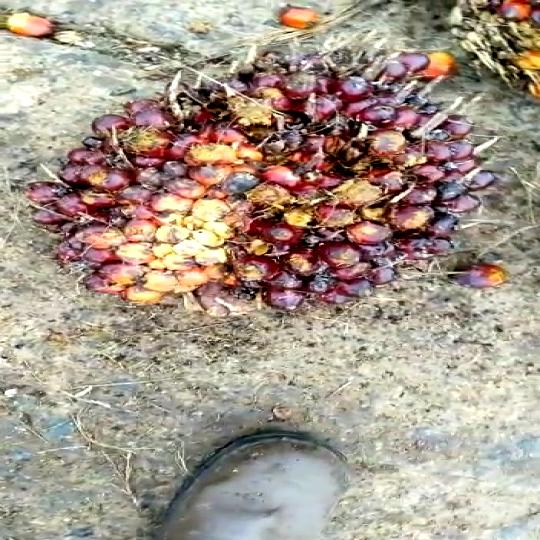masak: (28, 12, 512, 321)
